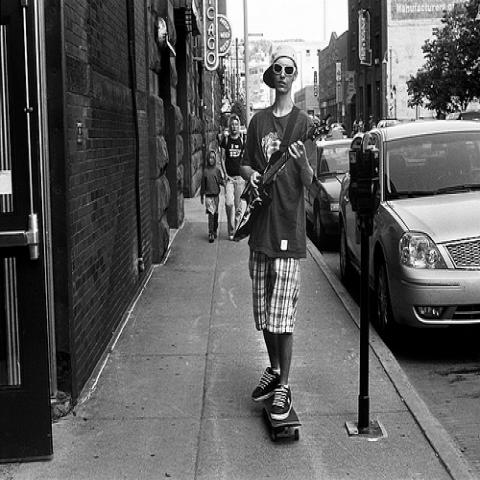car: (336, 126, 479, 348), (305, 138, 353, 247), (326, 128, 342, 142)
